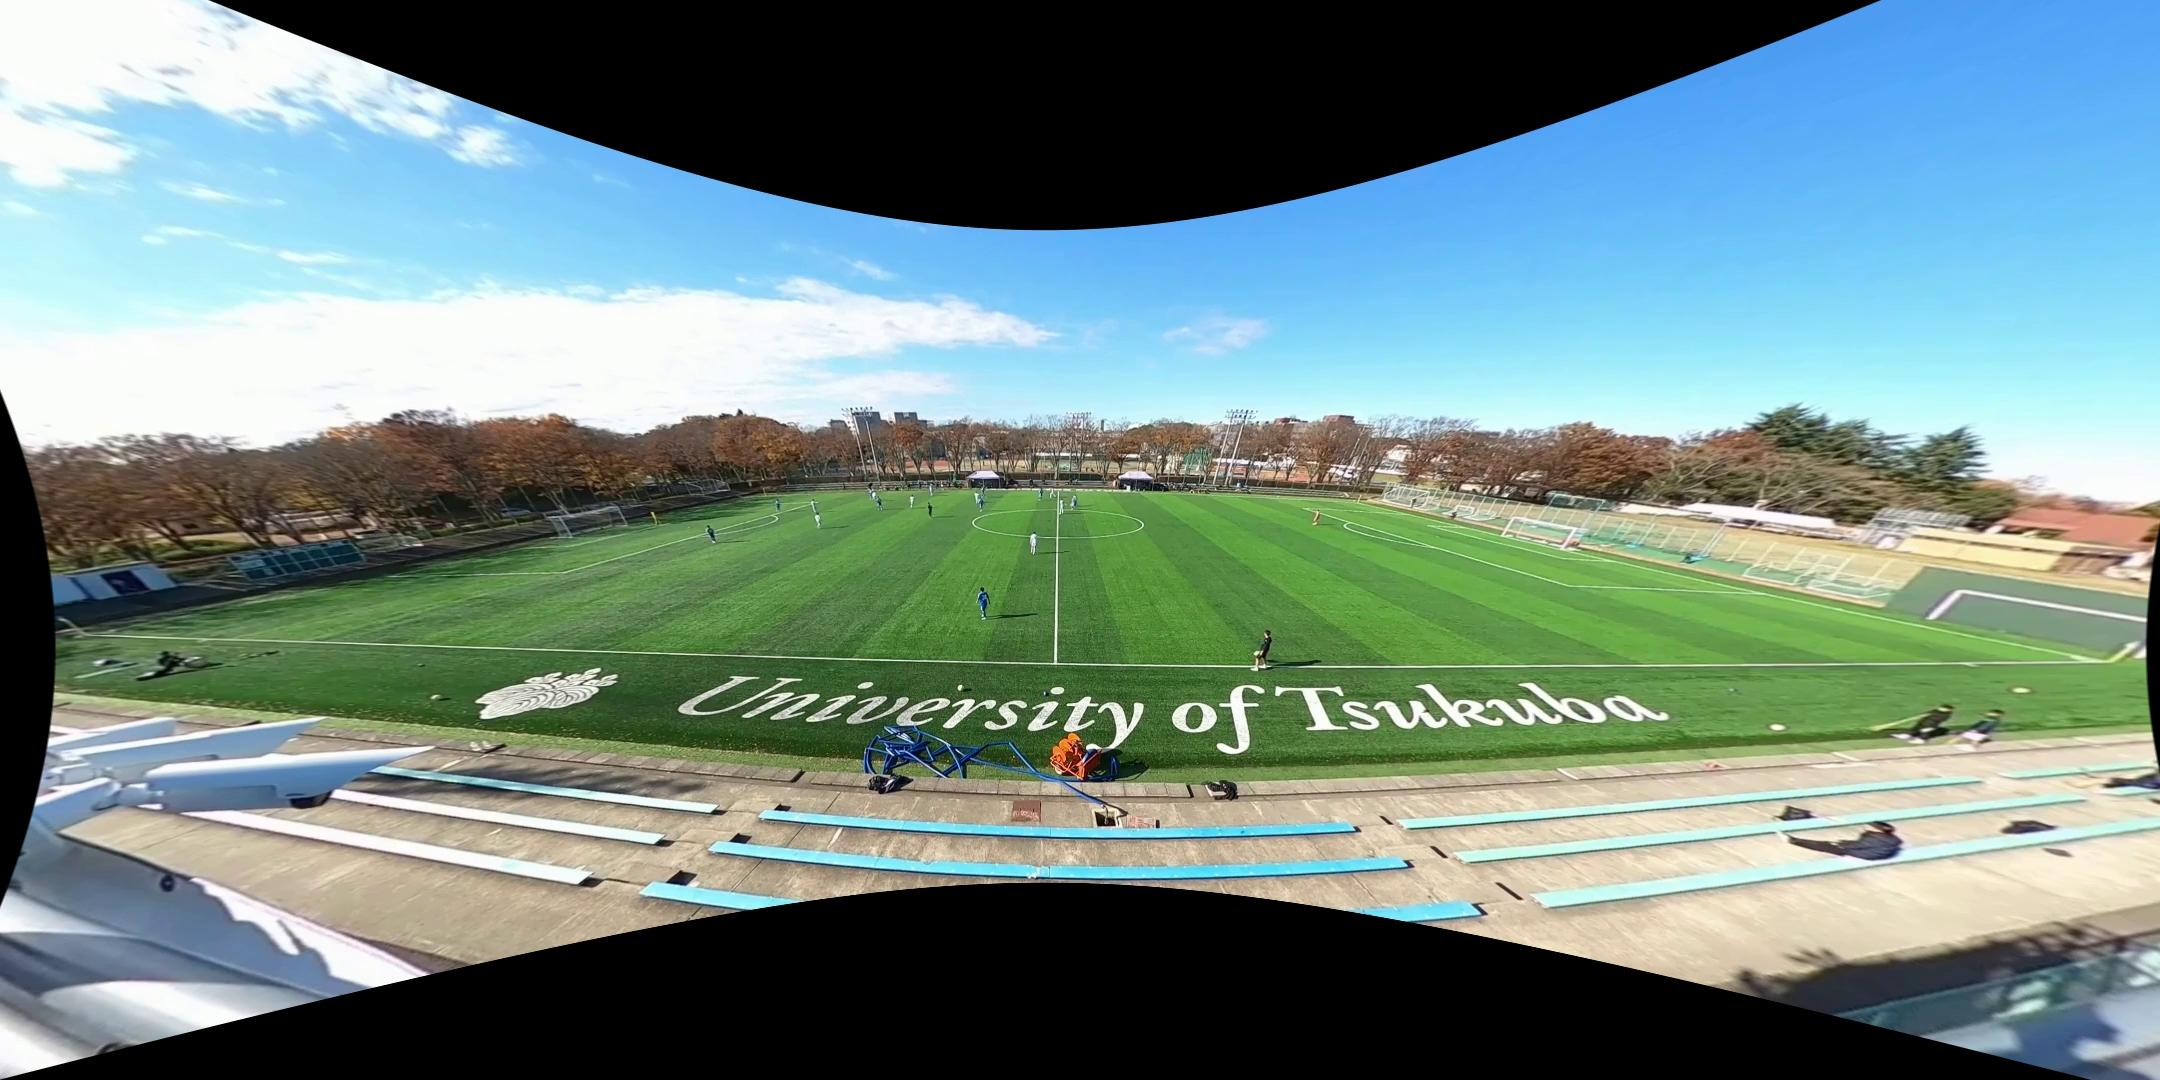person: (1250, 627, 1275, 672), (975, 586, 992, 620), (706, 523, 717, 544), (651, 510, 663, 527), (1030, 530, 1038, 555), (1312, 508, 1323, 526), (1058, 497, 1067, 515), (926, 501, 934, 520), (1047, 486, 1058, 499), (1070, 494, 1078, 510), (815, 511, 822, 529), (979, 484, 987, 498), (908, 494, 916, 508), (875, 495, 882, 511), (1038, 486, 1045, 501), (775, 498, 782, 513), (973, 491, 980, 505), (868, 487, 875, 501), (811, 499, 818, 513), (979, 496, 985, 512), (1073, 497, 1079, 511), (872, 491, 879, 503), (929, 483, 934, 496)
sports ball: (2007, 683, 2034, 698), (1766, 720, 1789, 736), (429, 691, 445, 704), (956, 682, 967, 693), (846, 704, 847, 704)
